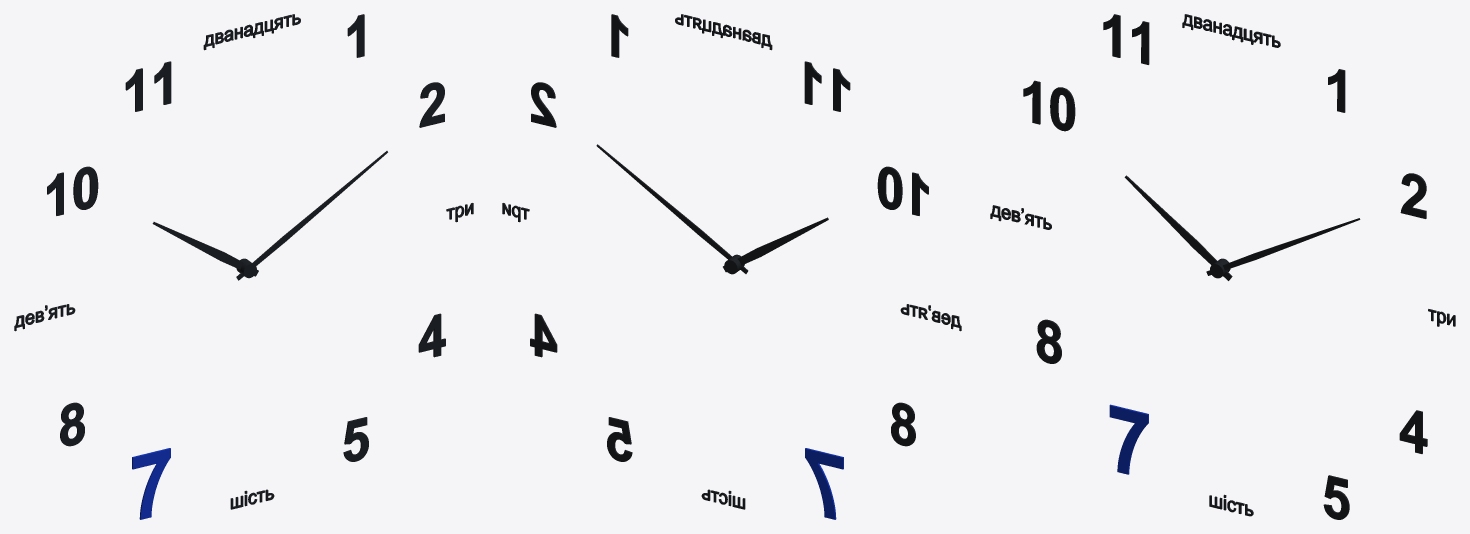
File: wallClock-1.glb
3 views of the same model, side by side, from view 1: azimuth 30°, elevation 25°; view 2: azimuth 150°, elevation 25°; view 3: azimuth 330°, elevation 25° (orthographic).
Parts seen in each view (by area): view 1: Clock_graphite, Clock_EDS_blue, Clock_minute_hand_blade, Clock_hour_hand_blade; view 2: Clock_graphite, Clock_EDS_blue, Clock_minute_hand_blade, Clock_hour_hand_blade; view 3: Clock_graphite, Clock_EDS_blue, Clock_hour_hand_blade, Clock_minute_hand_blade.
Boxes of the visible parts, x1,y1,x2,y2 form: Clock_graphite: [14, 14, 473, 509]; Clock_EDS_blue: [132, 448, 170, 519]; Clock_minute_hand_blade: [236, 151, 387, 280]; Clock_hour_hand_blade: [152, 222, 258, 276]; Clock_graphite: [502, 14, 961, 509]; Clock_EDS_blue: [805, 448, 843, 519]; Clock_minute_hand_blade: [596, 144, 748, 273]; Clock_hour_hand_blade: [723, 217, 828, 272]; Clock_graphite: [990, 14, 1455, 519]; Clock_EDS_blue: [1109, 404, 1148, 474]; Clock_hour_hand_blade: [1124, 175, 1232, 280]; Clock_minute_hand_blade: [1206, 218, 1360, 275].
Bounding box in the file's own units: 1.25 × 1.25 × 0.035.
